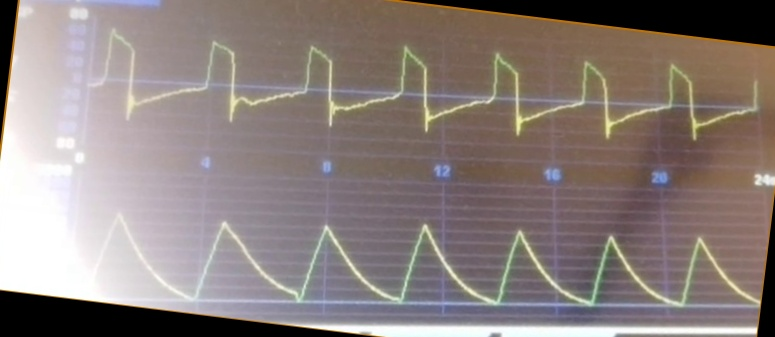Premature_cycling Flow: (94, 27, 757, 143)
Premature_cycling Volume: (90, 208, 760, 311)
